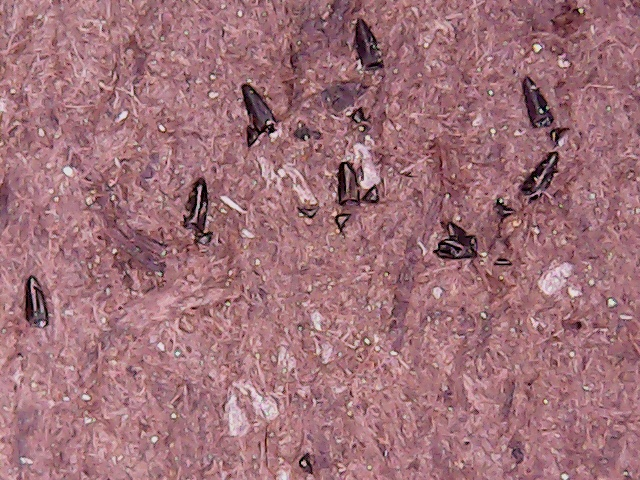full: (427, 213, 486, 267), (231, 80, 285, 138), (346, 16, 393, 77), (516, 71, 560, 131), (517, 146, 561, 204), (181, 171, 214, 242), (328, 156, 365, 210), (19, 274, 54, 327)
